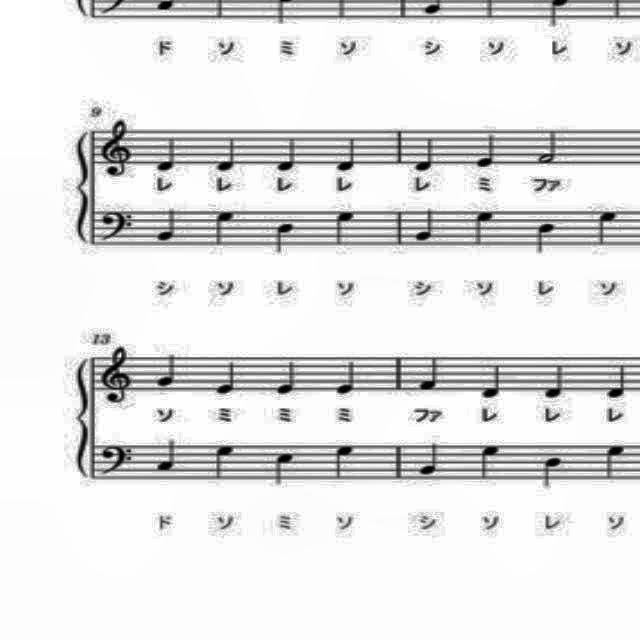Bass-clef: (94, 438, 140, 480), (98, 207, 136, 249)
Half-note: (534, 122, 566, 166)
Quarter-note: (328, 353, 367, 401), (532, 451, 574, 494), (474, 356, 510, 406), (263, 355, 301, 401), (470, 126, 506, 174), (273, 126, 307, 176), (210, 124, 242, 176), (324, 205, 360, 251), (328, 132, 364, 176), (412, 349, 446, 395), (528, 217, 564, 260), (467, 204, 497, 252), (152, 132, 184, 176), (210, 442, 242, 486), (412, 128, 441, 176), (212, 207, 244, 250), (148, 346, 180, 389), (602, 356, 630, 404), (152, 434, 184, 476), (331, 440, 363, 482), (412, 441, 444, 483), (540, 361, 570, 404), (594, 206, 622, 252), (272, 447, 302, 489), (600, 440, 628, 484), (152, 205, 184, 243), (474, 441, 502, 484), (409, 202, 438, 242), (214, 356, 240, 400), (274, 218, 302, 258)
Treble-clef: (97, 343, 139, 412), (98, 115, 136, 181)
